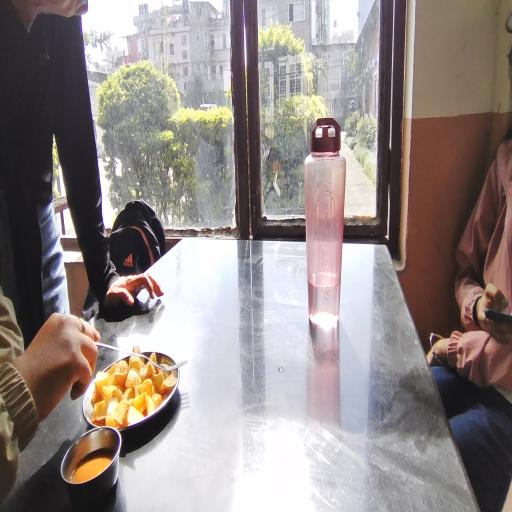Bottle: (301, 119, 359, 323)
